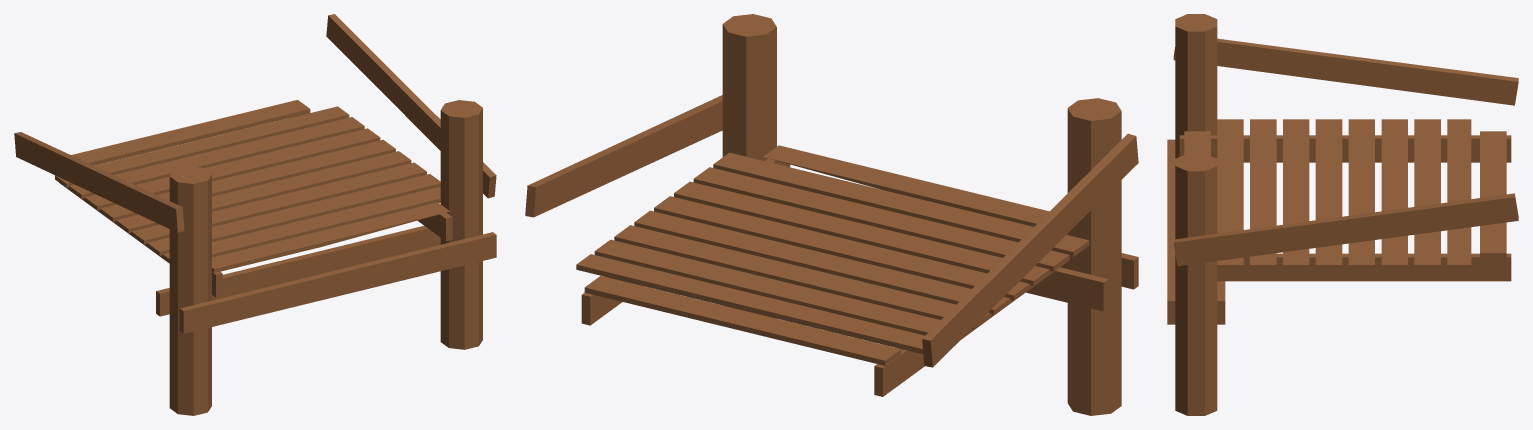
File: Barrier Dock Attach 1.fbx
3 renders of one model, left to right at view 1: azimuth 30°, elevation 25°; view 2: azimuth 150°, elevation 25°; view 3: azimuth 270°, elevation 25°, orthographic. The views are drawn at different scales.
Visible parts, largest first — view 1: Barrier Dock Attach 1; view 2: Barrier Dock Attach 1; view 3: Barrier Dock Attach 1.
Boxes of the visible parts, x1=… form: Barrier Dock Attach 1: x1=14, y1=14, x2=496, y2=415; Barrier Dock Attach 1: x1=525, y1=14, x2=1138, y2=415; Barrier Dock Attach 1: x1=1167, y1=14, x2=1518, y2=415.
Size of the model in its own units: 414 by 288 by 374.
